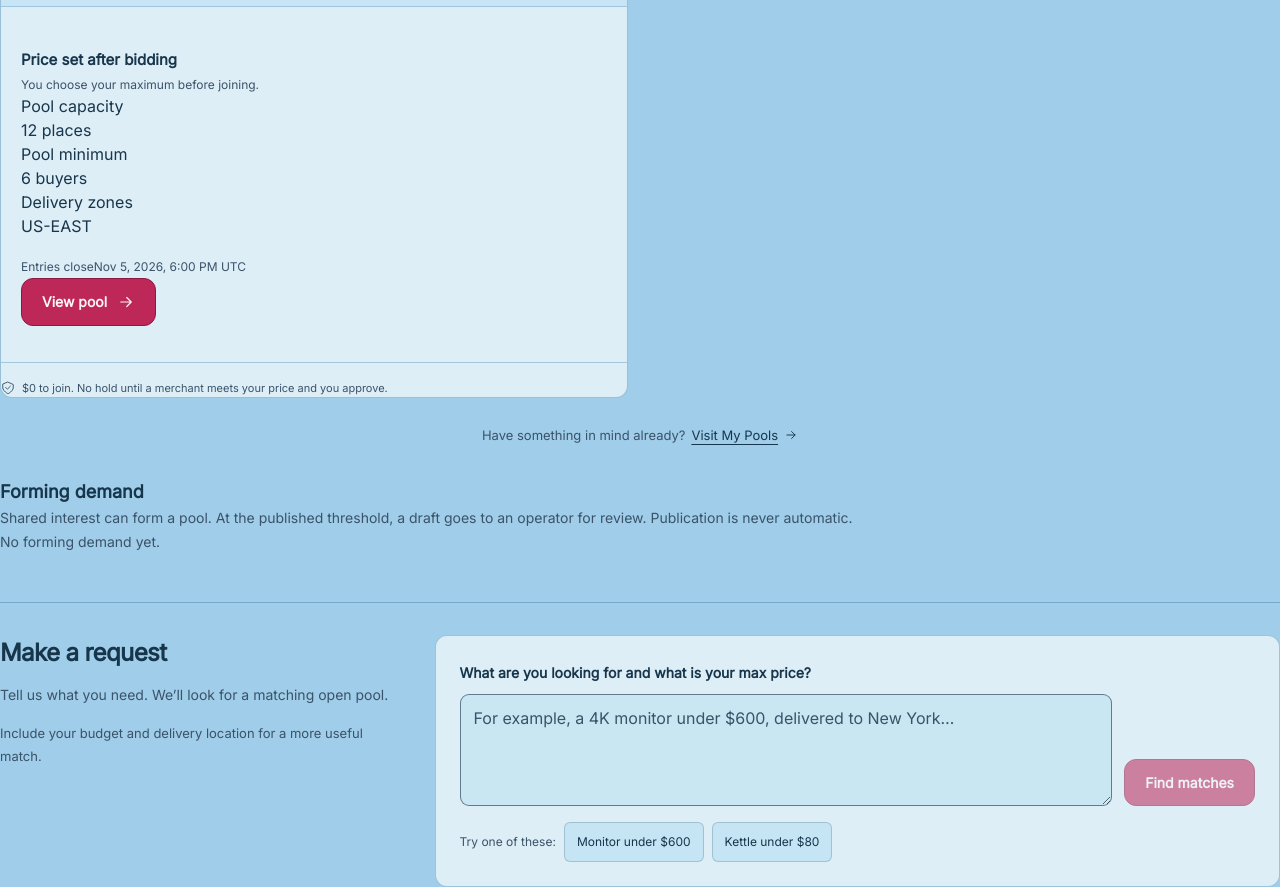
Test case: Discover and Join › keeps the conversation going when intake needs one more answer
This screenshot has width=1280, height=887.
(page scrolled)
Type "a monitor for my desk" into the text box labelled "What are you looking for and what is your max price?".
click(786, 750); type("a monitor for my desk")  # box [460,694,1112,806]
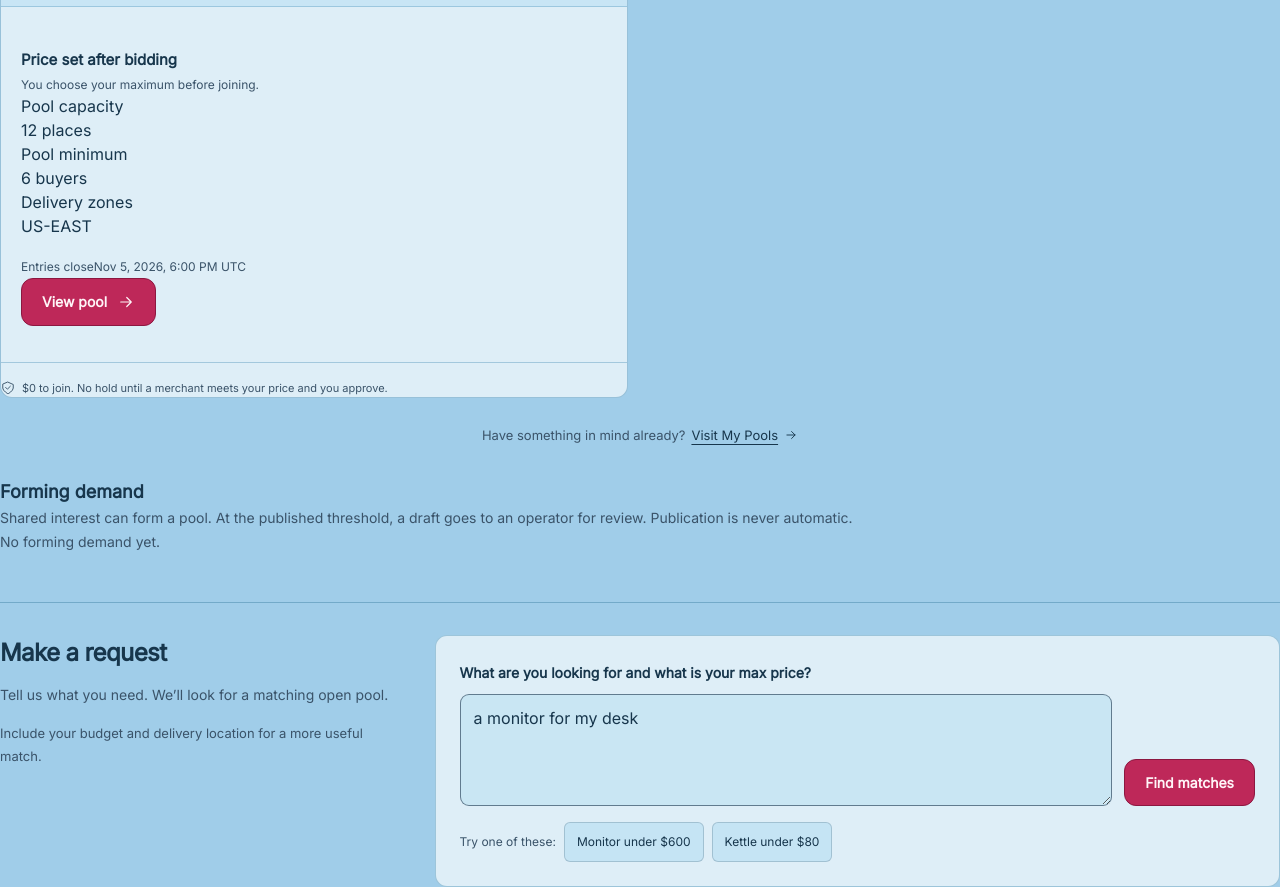
Click the button "Find matches".
click(1190, 782)  # box [1124,759,1255,806]
(page scrolled)
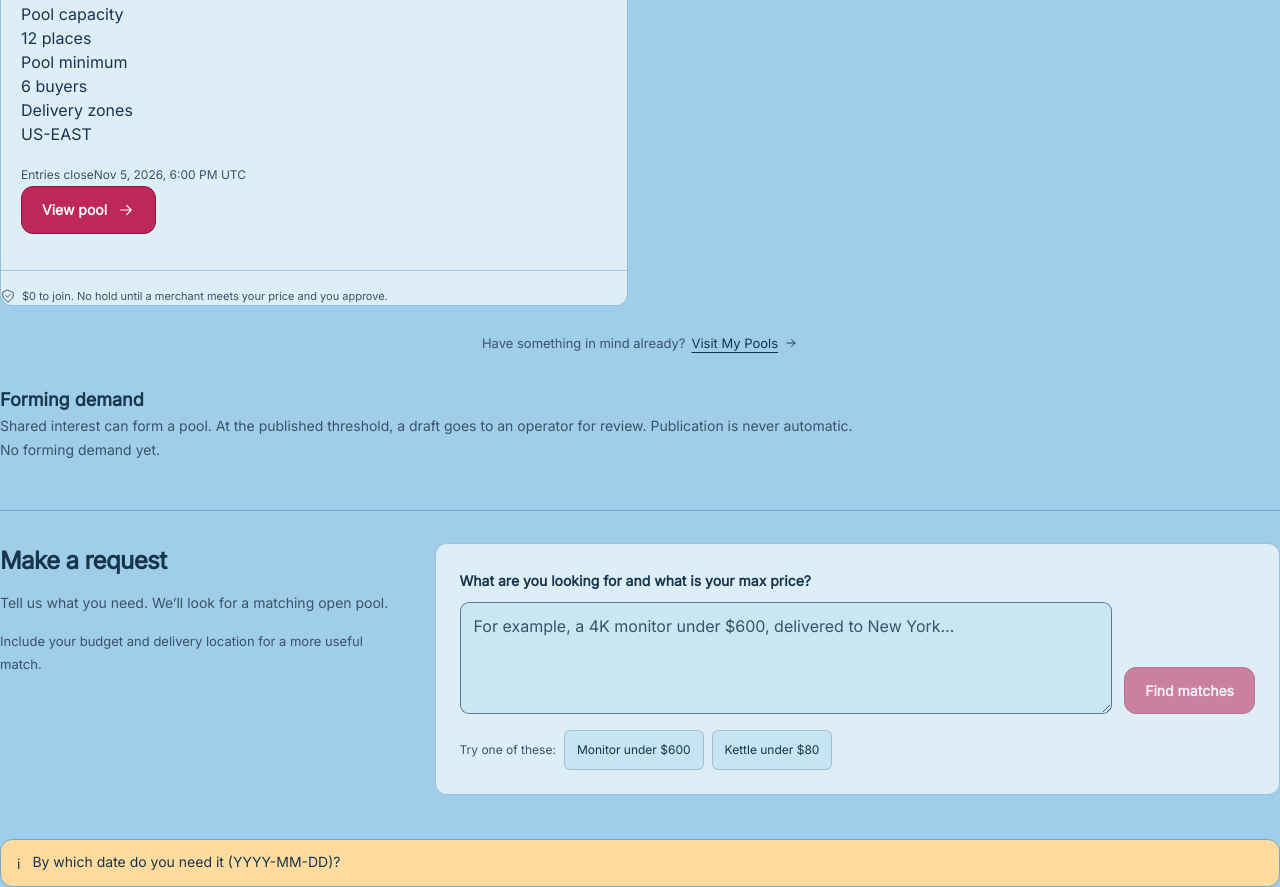
expect the text "By which date do you need it (YYYY-MM-DD)?" is shown: met, box [32,852,340,872]
